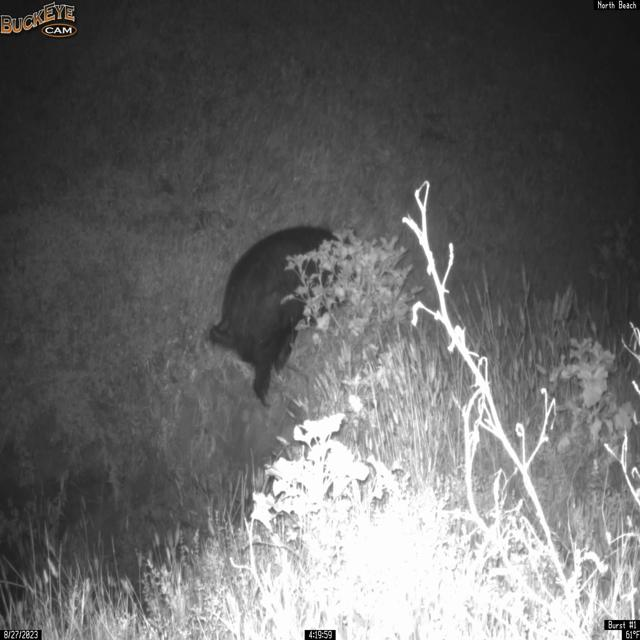pig: (206, 223, 359, 409)
